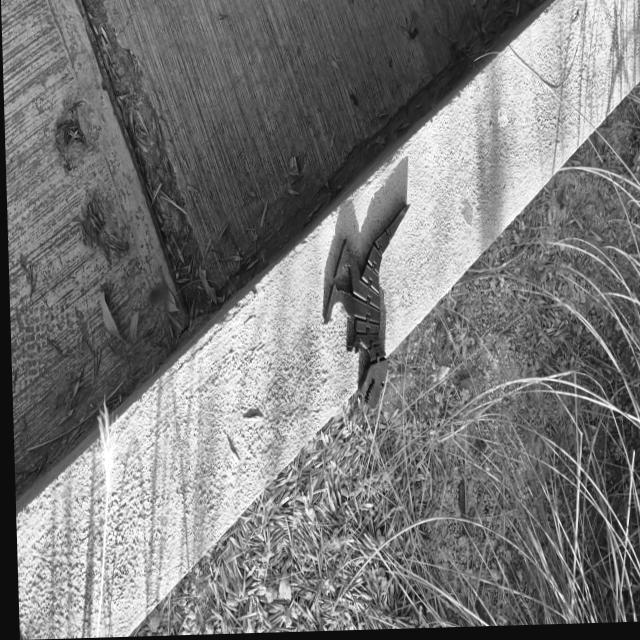dino: (317, 203, 416, 412)
